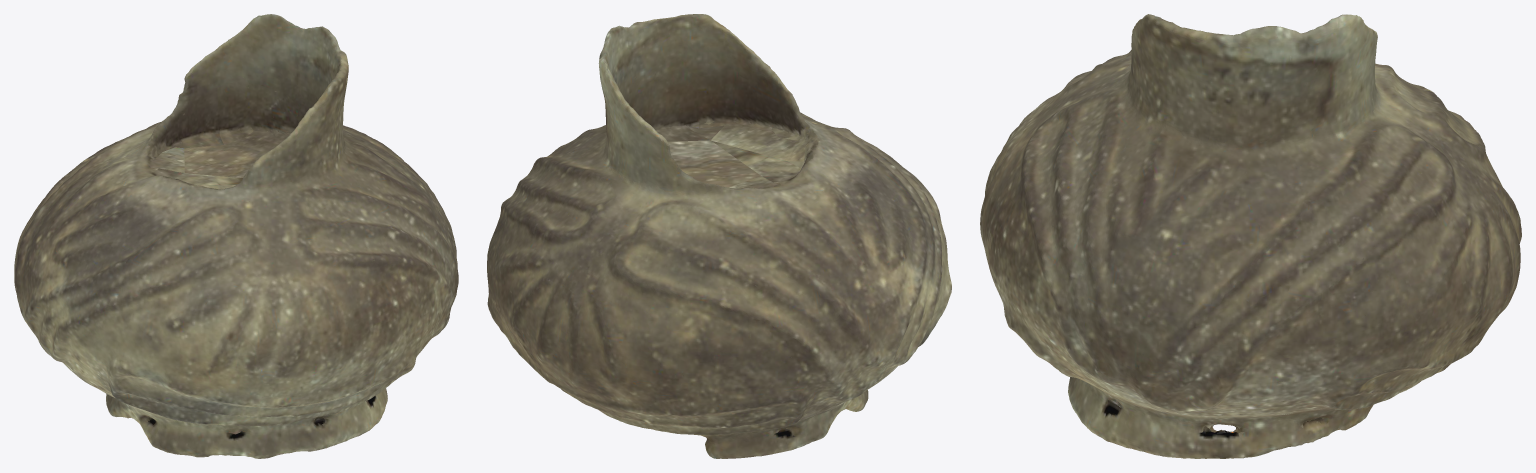
The model's file is Ark_HM_314_HI.glb.
3 views of the same model, side by side, from view 1: azimuth 30°, elevation 25°; view 2: azimuth 150°, elevation 25°; view 3: azimuth 270°, elevation 25° (orthographic). The views are drawn at different scales.
Bounding box in the file's own units: 0.499 × 0.4199 × 0.4855.
1 material, 1 textured.
